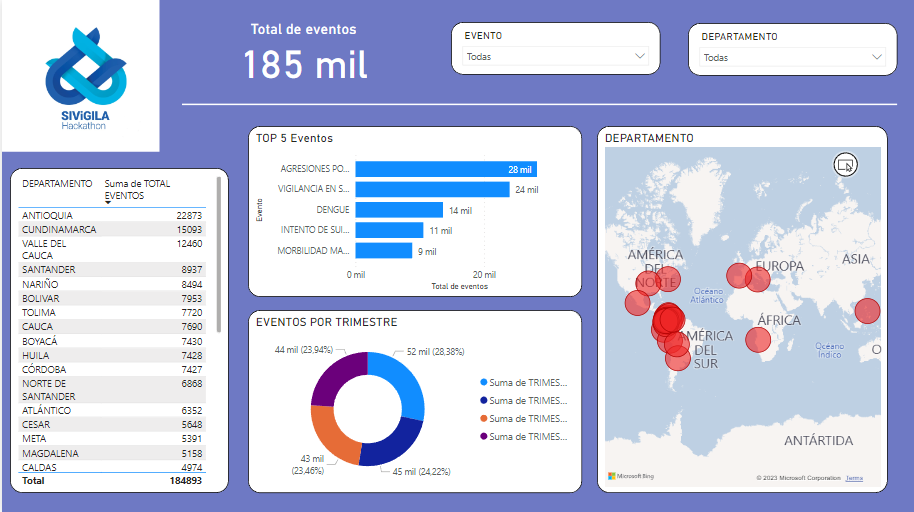

The page's visual inventory and layout, read from the dashboard file:
{"tool":"powerbi","page":{"name":"Página 1","canvas":[1280,720],"ordinal":0},"visuals":[{"type":"image","box":[0,0,220.9,212.7],"z":0},{"type":"shape","box":[252.5,116.6,1004.5,60.4],"z":2},{"type":"slicer","fields":{"Values":["MAESTRA 2020.EVENTO"]},"box":[629.8,31.6,293.7,74.1],"z":3},{"type":"slicer","fields":{"Values":["MAESTRA 2020.DEPARTAMENTO"]},"box":[963.3,32.9,293.7,74.1],"z":4},{"type":"card","title":"Total de eventos","fields":{"Values":["Sum(MAESTRA 2020.TOTAL EVENTOS)"]},"box":[306,27.4,234.6,89.2],"z":5},{"type":"map","fields":{"Category":["MAESTRA 2020.DEPARTAMENTO"]},"box":[835.7,177,407.5,514.6],"z":7},{"type":"clusteredBarChart","title":"TOP 5 Eventos","fields":{"Category":["MAESTRA 2020.EVENTO"],"Y":["Sum(MAESTRA 2020.TOTAL EVENTOS)"]},"box":[345.8,177,469.3,240.1],"z":8},{"type":"donutChart","title":"EVENTOS POR TRIMESTRE","fields":{"Y":["Sum(MAESTRA 2020.TRIMESTRE 1)","Sum(MAESTRA 2020.TRIMESTRE 2)","Sum(MAESTRA 2020.TRIMESTRE 3)","Sum(MAESTRA 2020.TRIMESTRE 4)"]},"box":[345.8,435,469.3,256.6],"z":9},{"type":"tableEx","fields":{"Values":["MAESTRA 2020.DEPARTAMENTO","Sum(MAESTRA 2020.TOTAL EVENTOS)"]},"box":[11,236,307.4,455.6],"z":10}]}

Visuals, with their boxes in screenshot pixels (x1, y1, x2, y2), scaled from the page's 1280x720 canvas onto the 914x512 screenshot:
image: bbox=[0, 0, 158, 151]
shape: bbox=[180, 83, 898, 126]
slicer - MAESTRA 2020.EVENTO: bbox=[450, 22, 659, 75]
slicer - MAESTRA 2020.DEPARTAMENTO: bbox=[688, 23, 898, 76]
"Total de eventos" card: bbox=[219, 19, 386, 83]
map - MAESTRA 2020.DEPARTAMENTO: bbox=[597, 126, 888, 492]
"TOP 5 Eventos" clusteredBarChart: bbox=[247, 126, 582, 297]
"EVENTOS POR TRIMESTRE" donutChart: bbox=[247, 309, 582, 492]
tableEx - MAESTRA 2020.DEPARTAMENTO x Sum(MAESTRA 2020.TOTAL EVENTOS): bbox=[8, 168, 227, 492]
